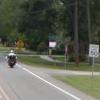Motorcycle: (5, 46, 26, 85)
